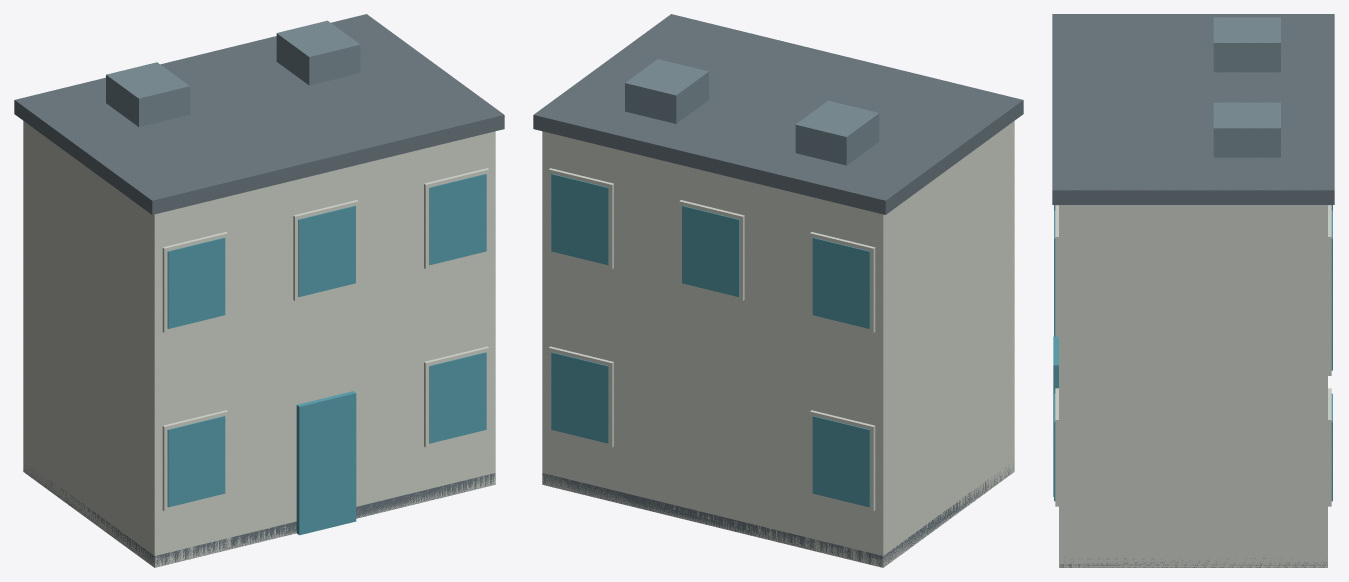
Rendered from office.glb.
The picture shows the model from 3 angles, left to right: view 1: azimuth 30°, elevation 25°; view 2: azimuth 150°, elevation 25°; view 3: azimuth 270°, elevation 25°; orthographic projection. The views are drawn at different scales.
Parts seen in each view (by area): view 1: Building wall volume 001, Flat roof coping 024, Entry door 023, Window blue glazing 004, Window blue glazing 012, Window blue glazing 008, Window blue glazing 020, Window blue glazing 016, Roof service unit 026, Roof service unit 025, Plinth 002, Window trim 019 (+4 smaller); view 2: Building wall volume 001, Flat roof coping 024, Plinth 002, Window blue glazing 006, Window blue glazing 014, Window blue glazing 010, Window blue glazing 022, Window blue glazing 018, Roof service unit 025, Roof service unit 026, Window trim 021, Window trim 009 (+3 smaller); view 3: Building wall volume 001, Flat roof coping 024, Roof service unit 025, Roof service unit 026, Plinth 002, Window trim 007, Window trim 009, Window trim 019, Window trim 021, Entry door 023.
Boxes of the visible parts, x1,y1,x2,y2 form: Building wall volume 001: (23, 121, 495, 567); Flat roof coping 024: (14, 14, 504, 214); Entry door 023: (296, 391, 356, 535); Window blue glazing 004: (167, 416, 225, 507); Window blue glazing 012: (167, 237, 225, 328); Window blue glazing 008: (429, 352, 486, 443); Window blue glazing 020: (429, 174, 486, 265); Window blue glazing 016: (298, 205, 355, 296); Roof service unit 026: (276, 20, 360, 85); Roof service unit 025: (106, 62, 189, 126); Plinth 002: (23, 466, 495, 567); Window trim 019: (424, 168, 489, 269); Building wall volume 001: (542, 121, 1014, 567); Flat roof coping 024: (533, 14, 1023, 214); Plinth 002: (542, 464, 1013, 566); Window blue glazing 006: (812, 416, 870, 507); Window blue glazing 014: (812, 237, 870, 328); Window blue glazing 010: (551, 352, 608, 443); Window blue glazing 022: (551, 174, 608, 265); Window blue glazing 018: (682, 205, 739, 296); Roof service unit 025: (795, 100, 879, 165); Roof service unit 026: (625, 59, 708, 123); Window trim 021: (548, 168, 613, 269); Window trim 009: (548, 346, 613, 447); Building wall volume 001: (1059, 205, 1327, 567); Flat roof coping 024: (1052, 14, 1334, 204); Roof service unit 025: (1213, 17, 1280, 72); Roof service unit 026: (1213, 102, 1280, 157); Plinth 002: (1060, 557, 1327, 567); Window trim 007: (1055, 388, 1058, 506); Window trim 009: (1328, 388, 1331, 506); Window trim 019: (1055, 205, 1058, 323); Window trim 021: (1328, 205, 1331, 323); Entry door 023: (1053, 336, 1058, 496).
Bounding box in the file's own units: 6.2 × 6.72 × 4.2.
Materials: 4 (4 with a texture image).
